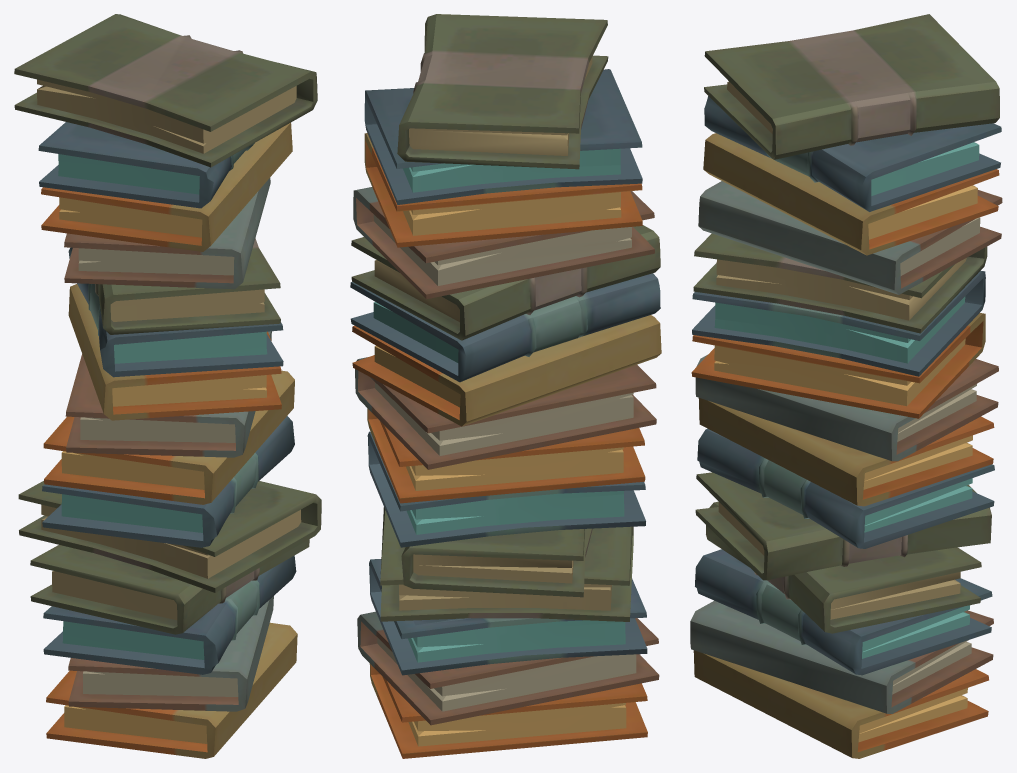
File: BookStack.fbx
3 views of the same model, side by side, from view 1: azimuth 30°, elevation 25°; view 2: azimuth 150°, elevation 25°; view 3: azimuth 270°, elevation 25° (orthographic). The views are drawn at different scales.
Parts seen in each view (by area): view 1: Book4, Book4.001, Book2, Book4.004, Book2.004, Book1.004, Book1, Book1.001, Book2.001, Book2.005, Book3.003, Book3 (+3 smaller); view 2: Book4, Book3.001, Book2.005, Book1, Book3.003, Book3, Book1.005, Book2, Book1.004, Book2.004, Book2.001, Book1.001 (+3 smaller); view 3: Book4, Book2, Book3.003, Book2.005, Book3, Book1.005, Book4.005, Book4.001, Book2.001, Book2.004, Book1, Book1.004 (+3 smaller).
Boxes of the visible parts, x1,y1,x2,y2 form: Book4: [14, 14, 317, 167]; Book4.001: [18, 481, 321, 592]; Book2: [41, 122, 292, 251]; Book4.004: [30, 539, 309, 634]; Book2.004: [46, 622, 297, 758]; Book1.004: [43, 555, 296, 674]; Book1: [38, 122, 254, 208]; Book1.001: [42, 416, 294, 547]; Book2.001: [43, 370, 294, 504]; Book2.005: [68, 284, 281, 420]; Book3.003: [68, 596, 273, 711]; Book3: [64, 177, 270, 289]; Book4: [397, 14, 608, 169]; Book3.001: [355, 357, 656, 469]; Book2.005: [352, 315, 661, 426]; Book1: [364, 69, 642, 204]; Book3.003: [357, 611, 659, 725]; Book3: [353, 187, 654, 299]; Book1.005: [350, 273, 660, 382]; Book2: [364, 133, 642, 247]; Book1.004: [369, 559, 647, 675]; Book2.004: [369, 663, 647, 758]; Book2.001: [367, 408, 645, 503]; Book1.001: [367, 431, 645, 547]; Book4: [704, 14, 999, 159]; Book2: [703, 133, 999, 255]; Book3.003: [690, 600, 993, 713]; Book2.005: [691, 313, 985, 418]; Book3: [698, 181, 1002, 294]; Book1.005: [692, 270, 985, 376]; Book4.005: [693, 233, 987, 333]; Book4.001: [695, 472, 991, 580]; Book2.001: [698, 398, 994, 506]; Book2.004: [693, 650, 988, 758]; Book1: [704, 96, 1001, 211]; Book1.004: [695, 549, 992, 675].
Size of the model in its own units: 328 by 756 by 336.
